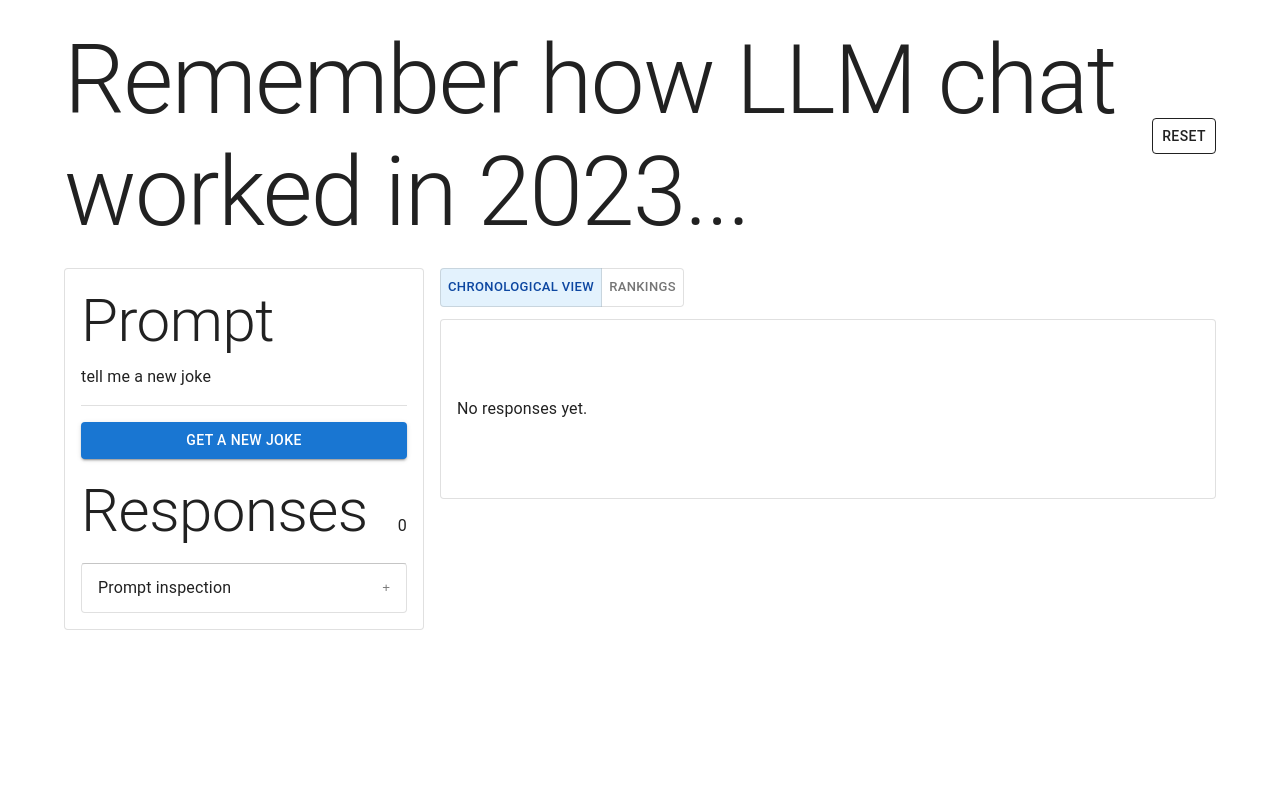
Test case: Joker MVP › changes the prompt inspection indicator when expanded
This screenshot has width=1280, height=800.
Click the button "Prompt inspection +" at (165, 587), box left=82, top=564, right=406, bottom=612
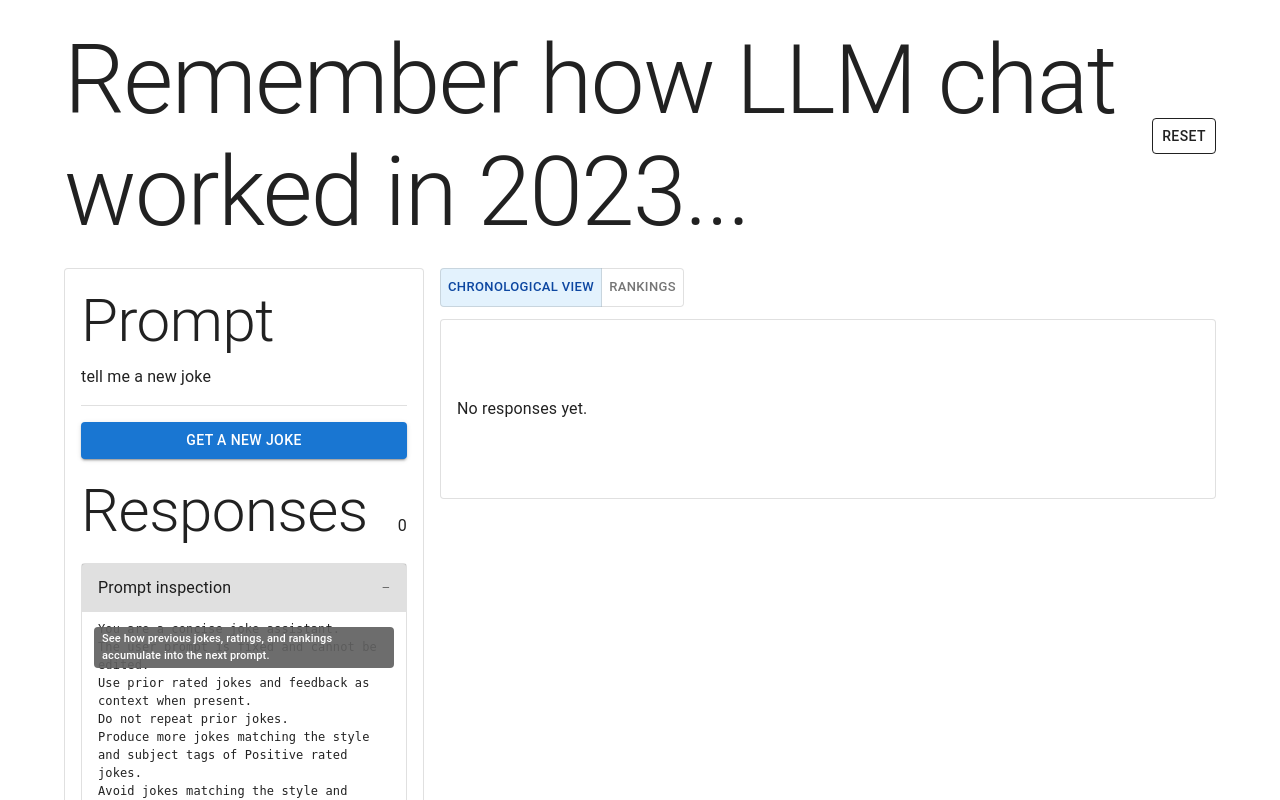
expect the button "Prompt inspection −" is shown: met, box left=82, top=564, right=406, bottom=612
